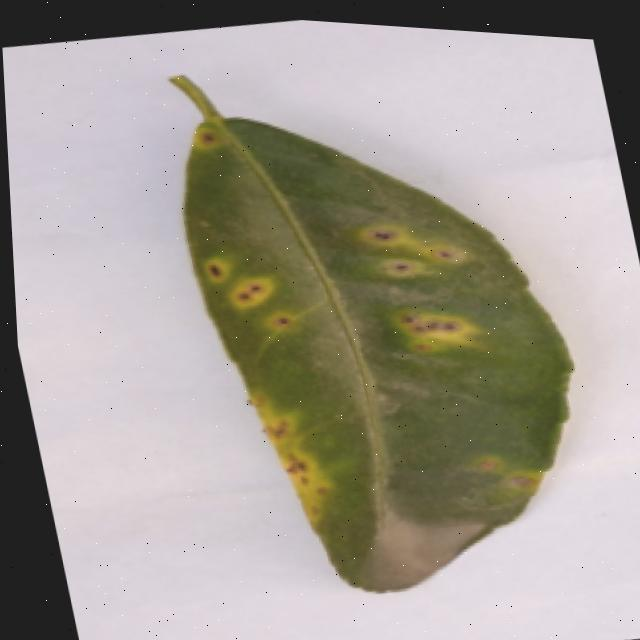canker: (172, 74, 569, 588), (222, 375, 341, 542), (192, 226, 318, 359), (358, 200, 477, 298), (389, 286, 480, 361), (471, 441, 556, 509), (189, 110, 234, 167)
